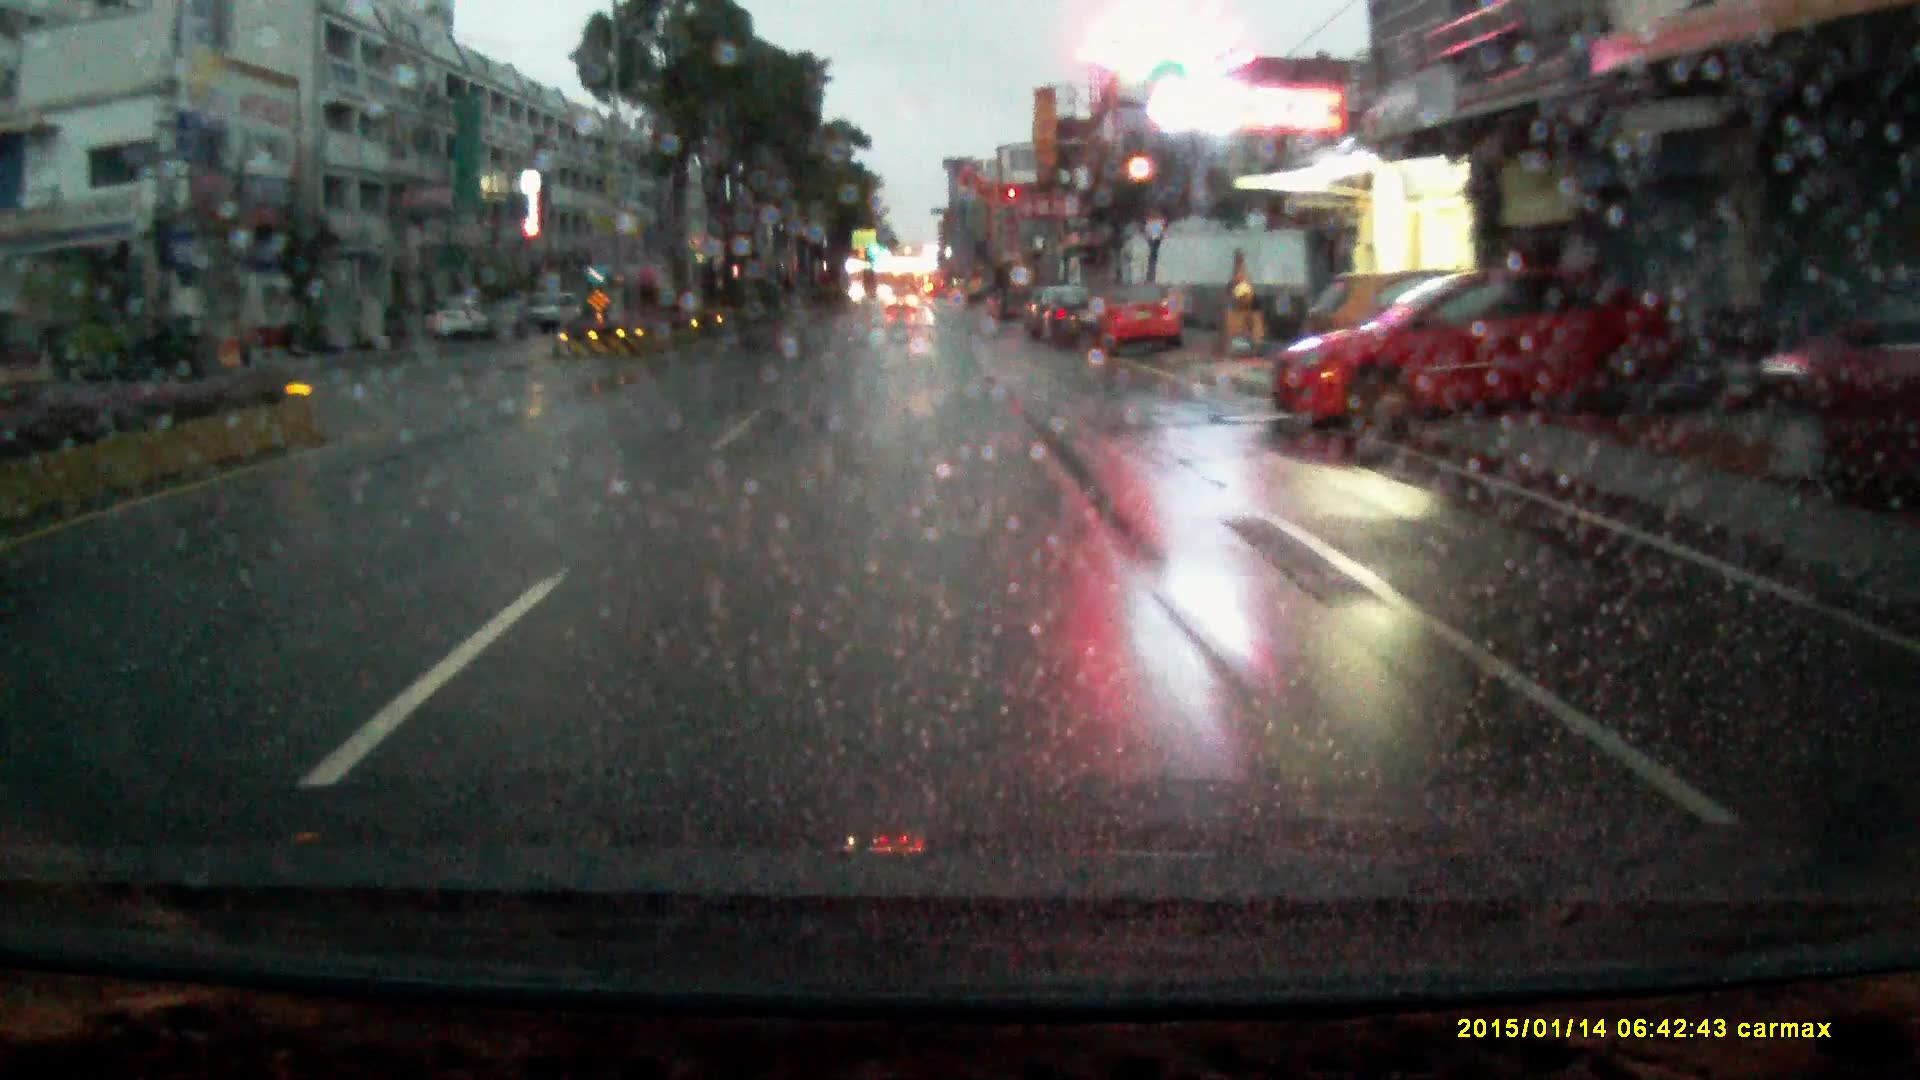vehicle: (1273, 272, 1698, 442), (1091, 289, 1188, 364), (1038, 290, 1106, 357), (431, 297, 491, 347), (525, 297, 585, 339), (886, 295, 918, 323)
